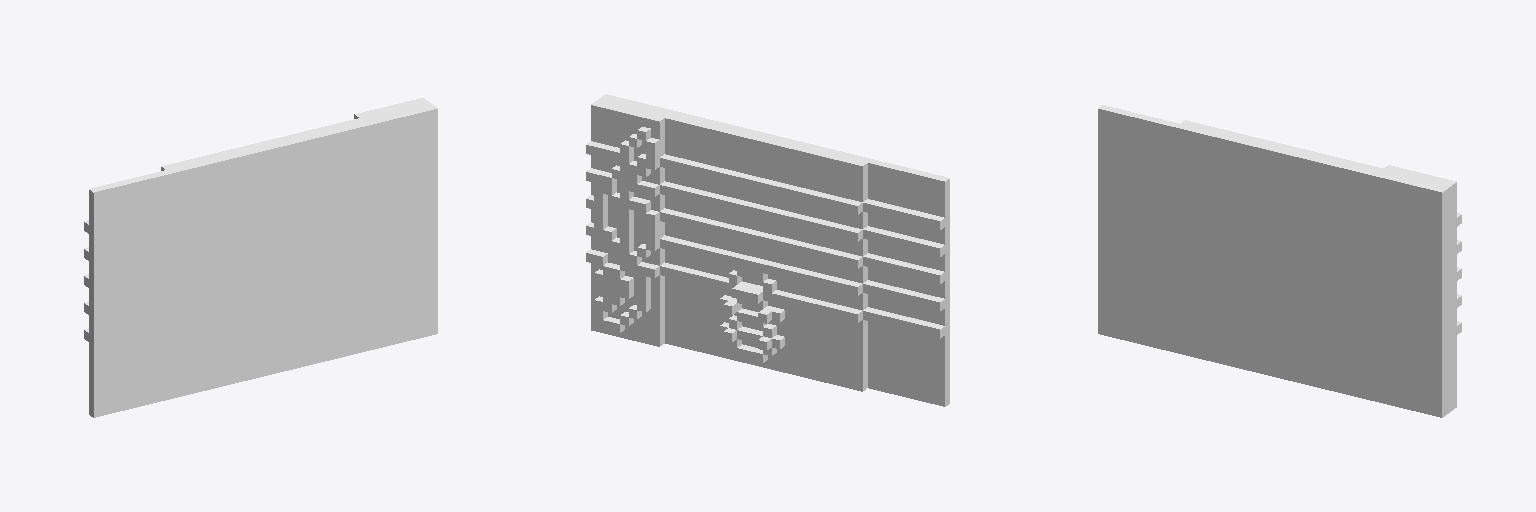
Rendered from pentagramaLamenor.obj.
3 views of the same model, side by side, from view 1: azimuth 30°, elevation 25°; view 2: azimuth 150°, elevation 25°; view 3: azimuth 330°, elevation 25° (orthographic).
Visible parts, largest first — view 1: object 1; view 2: object 1; view 3: object 1.
Boxes of the visible parts, <box> form: object 1: <box>84,98,437,417</box>; object 1: <box>586,94,949,406</box>; object 1: <box>1098,105,1461,417</box>.
Bounding box in the file's own units: 4 × 2.5 × 0.4.